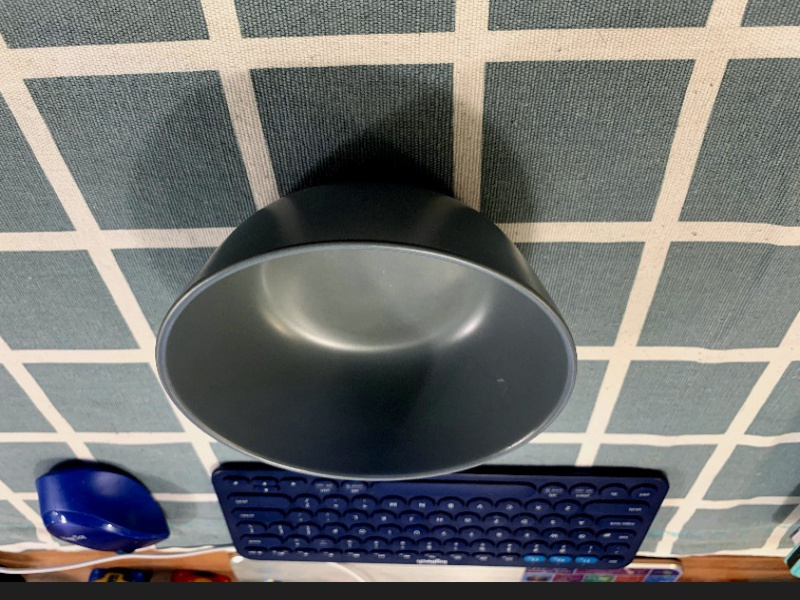bowl_big: (145, 173, 583, 485)
